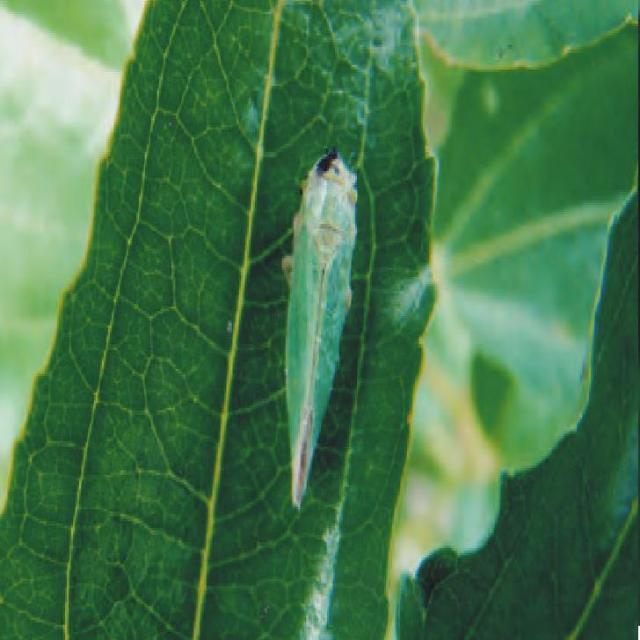Yechan: (276, 143, 357, 519)
